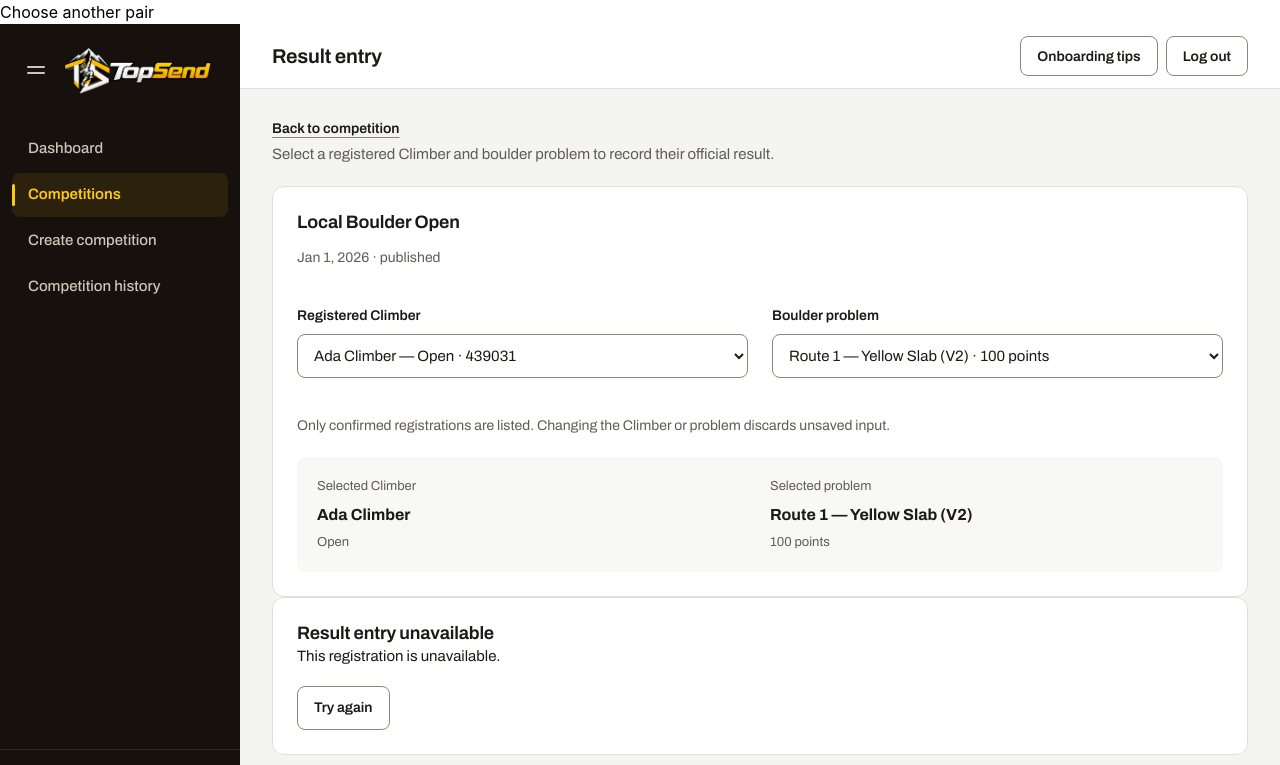
Scenario: US-019 #167/#168 official result selection and input › handles a selected-result read failure and reloads both metadata and result
The width and height of the screenshot is (1280, 765).
Check: the text "This registration is unavailable." is shown, box [297,648,500,664]
Click the button "Try again". click: (343, 708)
box: [297,686,390,730]
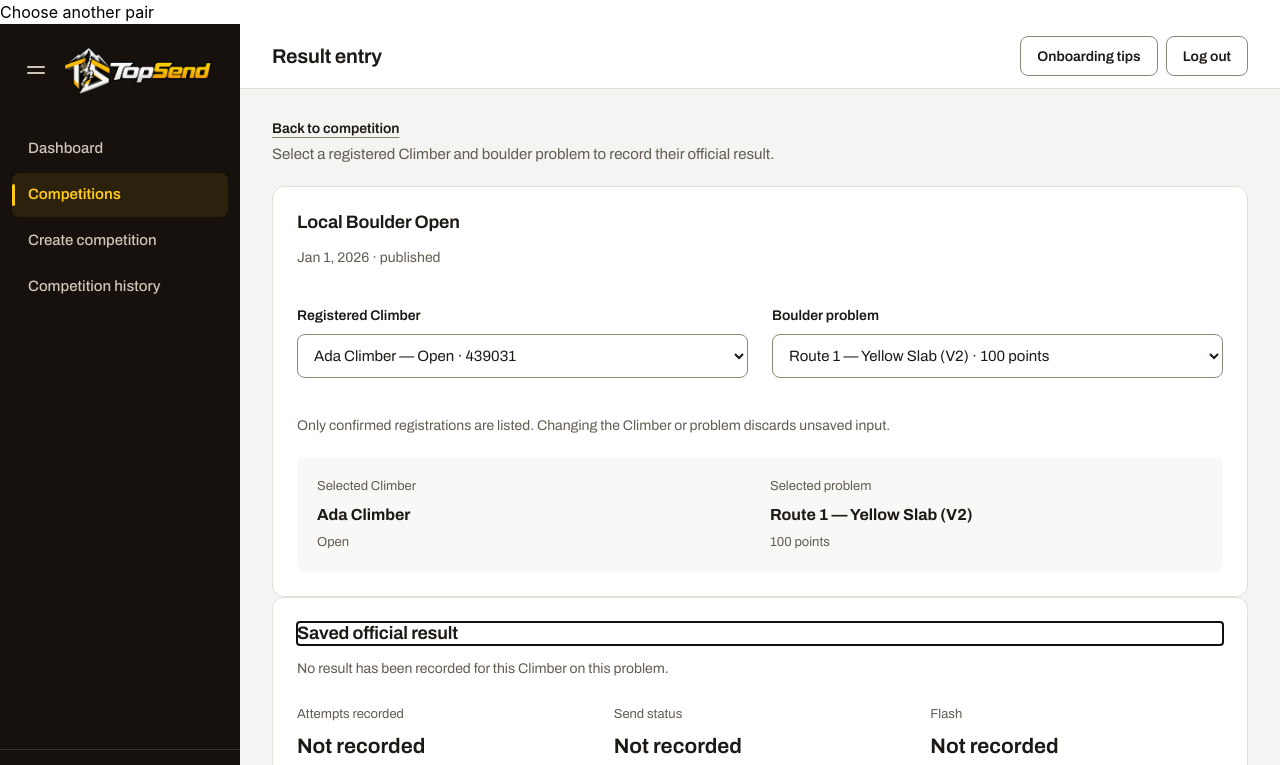
Check: the heading "Saved official result" is shown, box [297,623,458,643]
